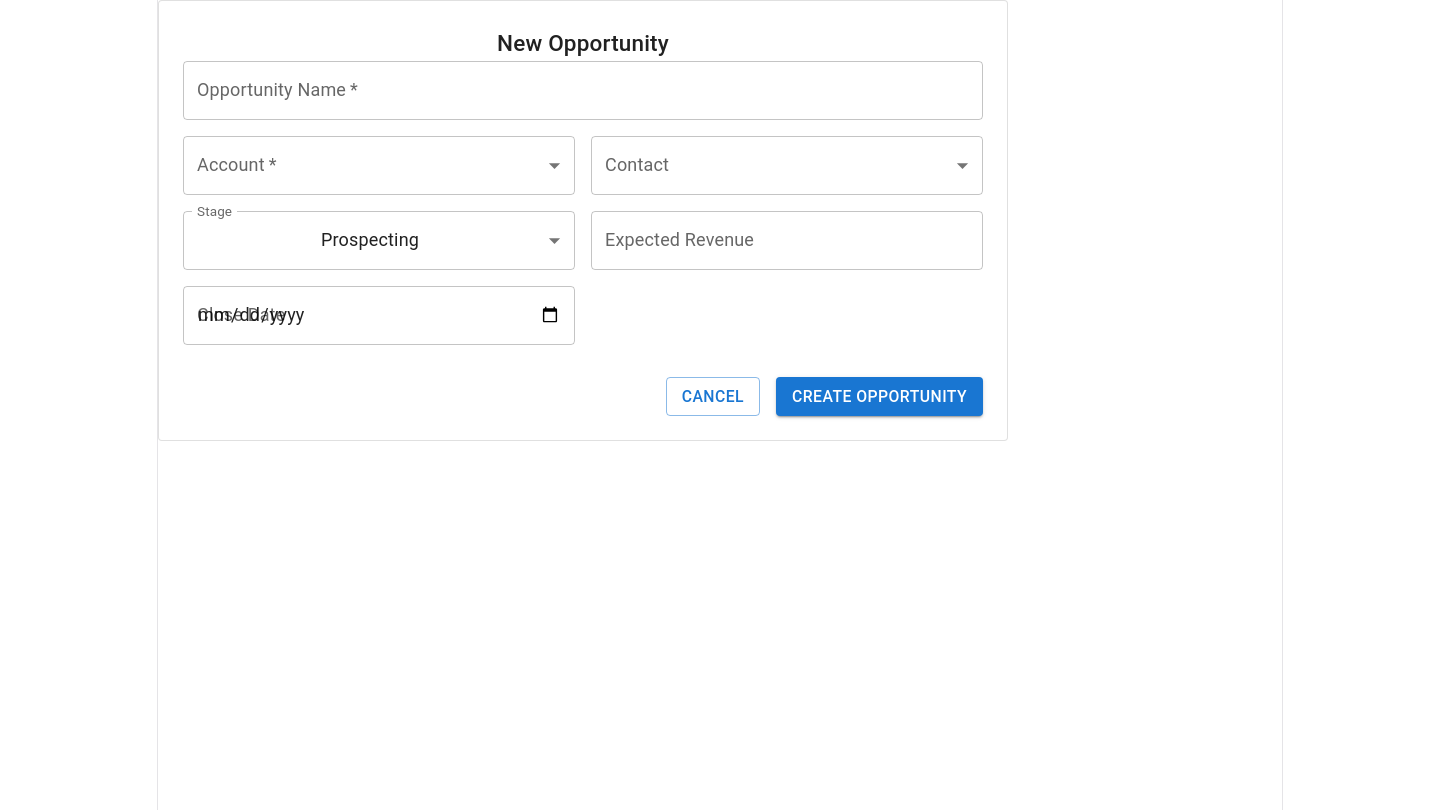
OpportunityFormPage › shows validation error when Opportunity Name is empty
What coordinates should you click on to do the following:
click the button "Create Opportunity"
I would click on:
 (880, 396)
Its box is [776,376,983,416].
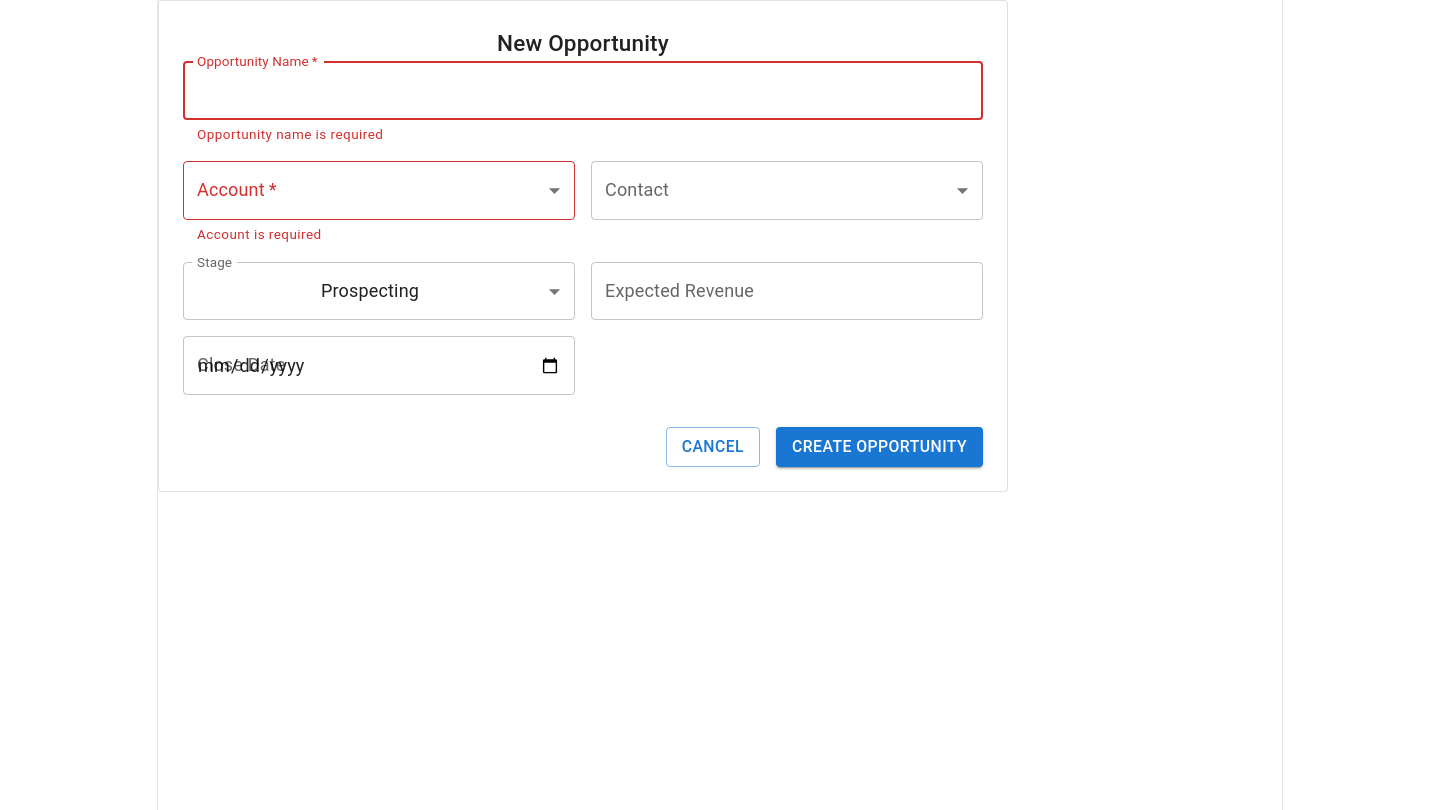
Expected: the text "Opportunity name is required" is shown, [197,126,383,142]
